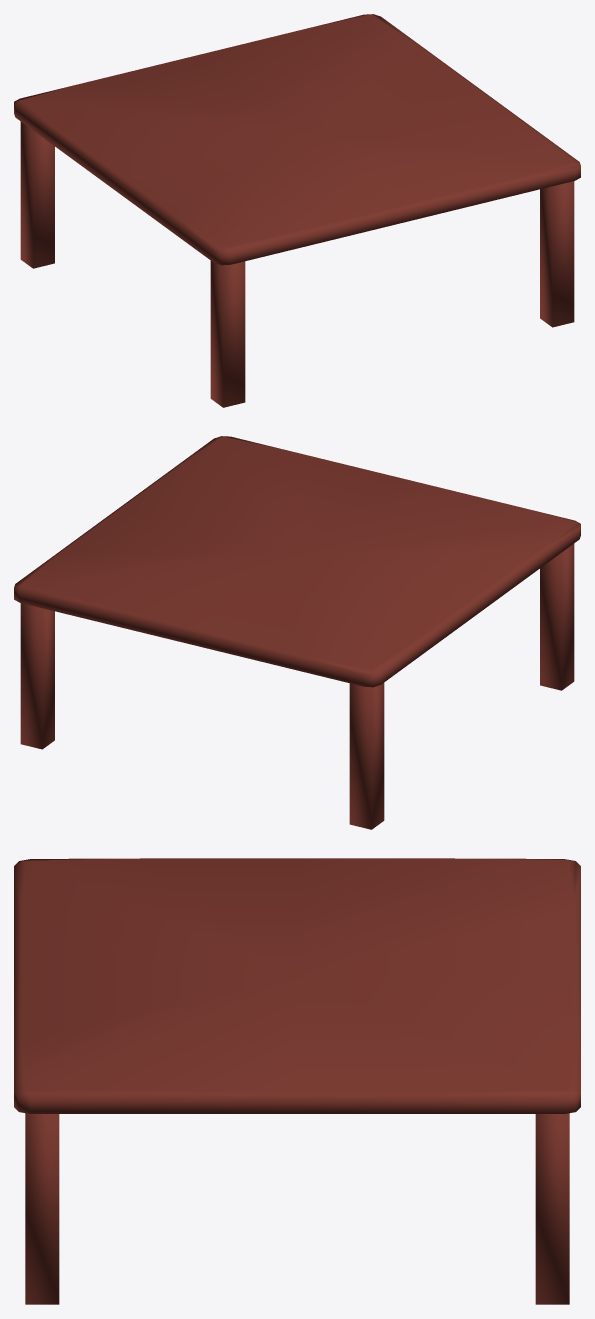
File: GAMEJAMHERO - Prop(Coffee Table).fbx
The picture shows the model from 3 angles, top to bottom: view 1: azimuth 30°, elevation 25°; view 2: azimuth 150°, elevation 25°; view 3: azimuth 270°, elevation 25°; orthographic projection. The views are drawn at different scales.
Visible parts, largest first — view 1: Plane.002; view 2: Plane.002; view 3: Plane.002.
Part boxes in pixels (x1,y1,x2,y2): Plane.002: (14, 14, 580, 407); Plane.002: (14, 436, 580, 829); Plane.002: (14, 858, 580, 1304).
Size of the model in its own units: 302 by 126 by 302.
1 material, 1 textured.
